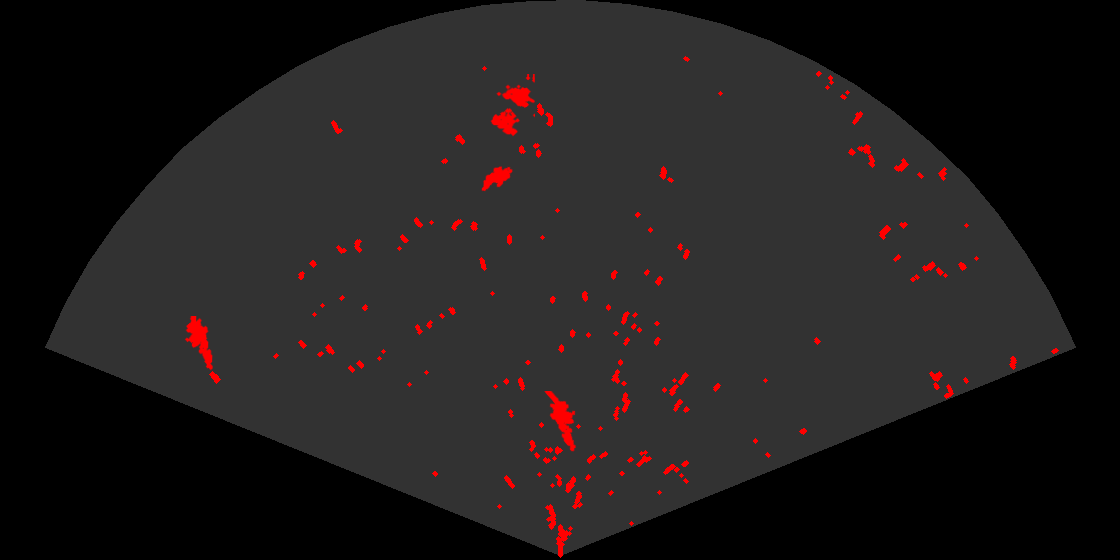AUV: (480, 164, 514, 193)
cage: (489, 74, 535, 138)
frogman: (543, 391, 578, 453), (183, 316, 214, 371)
